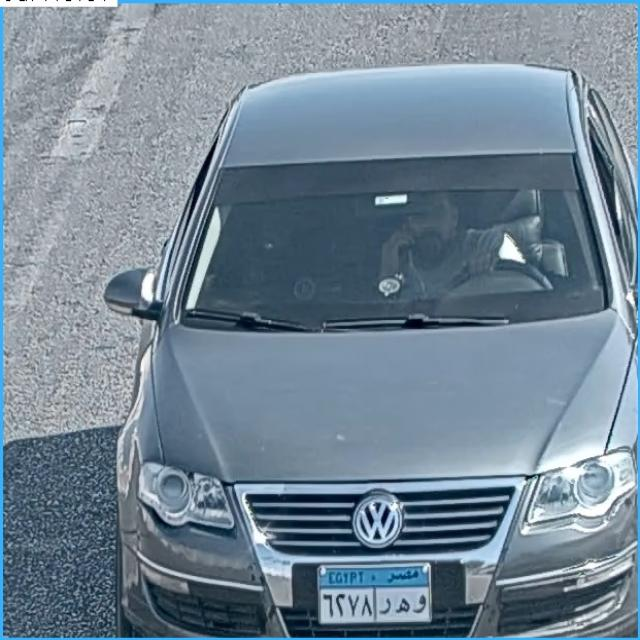windshield: (183, 160, 606, 316)
